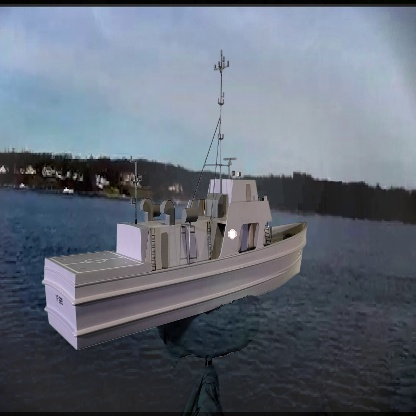YP689: (42, 49, 308, 353)
